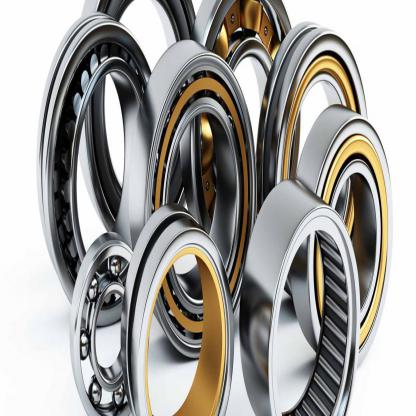FOD: (126, 35, 257, 363), (34, 6, 154, 308), (257, 14, 369, 305), (236, 169, 362, 415), (288, 96, 398, 367), (180, 0, 302, 228), (121, 193, 236, 415), (66, 231, 144, 415)
